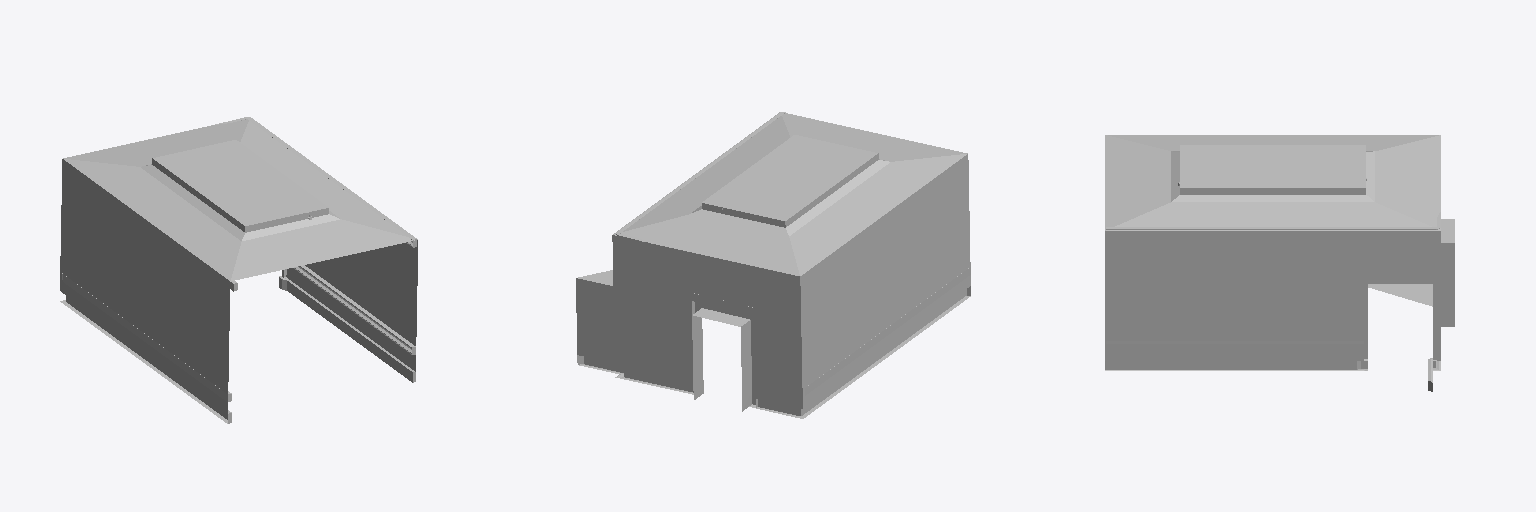
The model's file is MuseumGallery.obj.
3 views of the same model, side by side, from view 1: azimuth 30°, elevation 25°; view 2: azimuth 150°, elevation 25°; view 3: azimuth 270°, elevation 25° (orthographic).
Parts seen in each view (by area): view 1: MuseumGalleryMesh, CrownMoldingMesh Ground_CrownMolding polySurface48, CrownMoldingMesh Ground_CrownMolding polySurface47, CrownMoldingMesh; view 2: MuseumGalleryMesh, CrownMoldingMesh Ground_CrownMolding polySurface48, CrownMoldingMesh; view 3: MuseumGalleryMesh, CrownMoldingMesh, CrownMoldingMesh Ground_CrownMolding polySurface47.
Part boxes in pixels (left/top/right/bottom): MuseumGalleryMesh: left=60, top=117, right=417, bottom=423; CrownMoldingMesh Ground_CrownMolding polySurface48: left=67, top=277, right=231, bottom=401; CrownMoldingMesh Ground_CrownMolding polySurface47: left=294, top=265, right=415, bottom=354; CrownMoldingMesh: left=211, top=117, right=416, bottom=291; MuseumGalleryMesh: left=576, top=112, right=970, bottom=418; CrownMoldingMesh Ground_CrownMolding polySurface48: left=809, top=267, right=970, bottom=392; CrownMoldingMesh: left=616, top=112, right=785, bottom=242; MuseumGalleryMesh: left=1105, top=135, right=1454, bottom=391; CrownMoldingMesh: left=1106, top=212, right=1440, bottom=229; CrownMoldingMesh Ground_CrownMolding polySurface47: left=1106, top=341, right=1363, bottom=343.
Bounding box in the file's own units: 142 × 94.85 × 186.